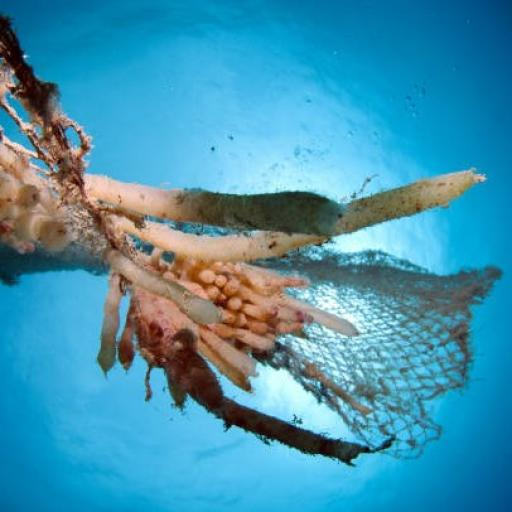net: (0, 14, 501, 458)
